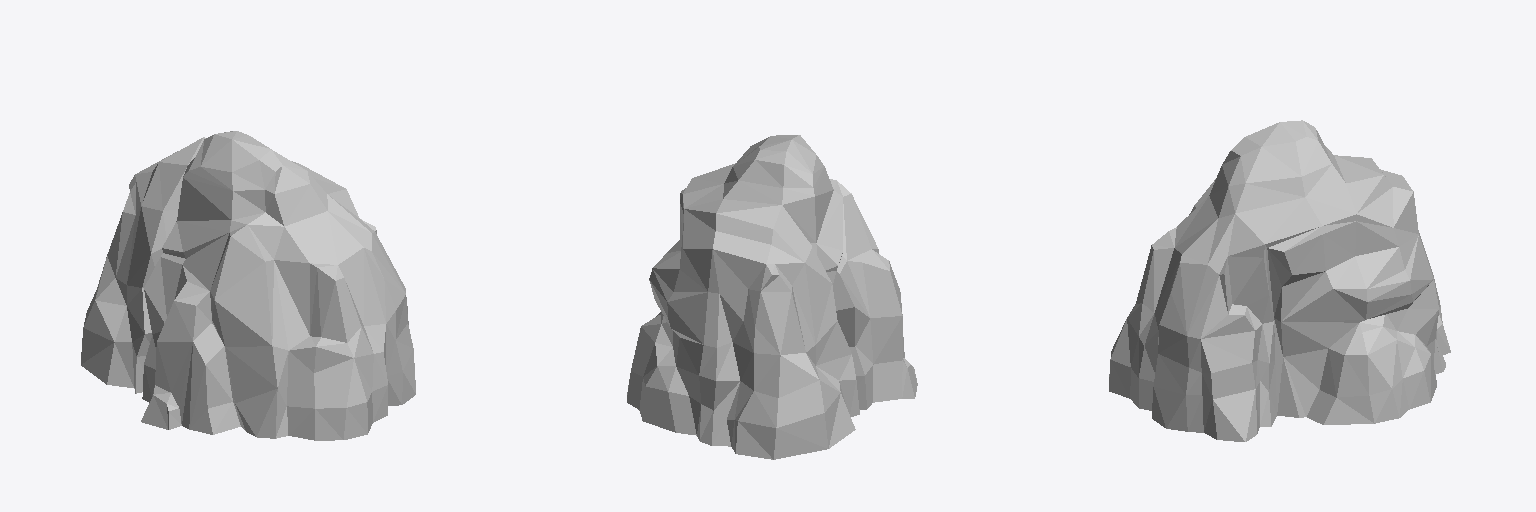
The model's file is rock_001.obj.
The picture shows the model from 3 angles: view 1: azimuth 30°, elevation 25°; view 2: azimuth 150°, elevation 25°; view 3: azimuth 270°, elevation 25°; orthographic projection.
Parts seen in each view (by area): view 1: rock_001 rock_001; view 2: rock_001 rock_001; view 3: rock_001 rock_001.
Part boxes in pixels (x1,y1,x2,y2): rock_001 rock_001: (81, 131, 415, 440); rock_001 rock_001: (627, 135, 917, 459); rock_001 rock_001: (1109, 120, 1450, 441).
Size of the model in its own units: 977 by 869 by 1103.